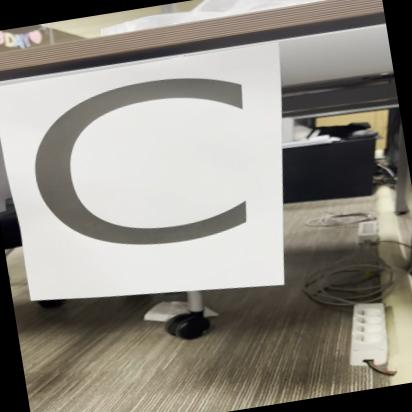seat: (9, 43, 302, 320)
